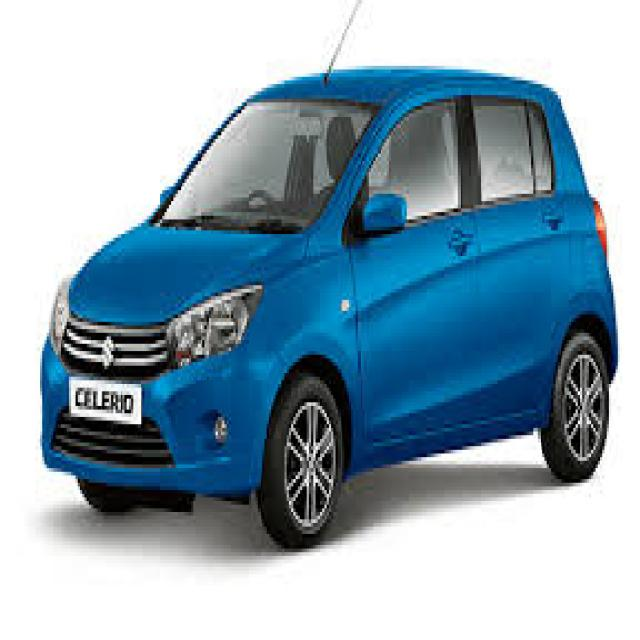Car: (34, 59, 620, 545)
